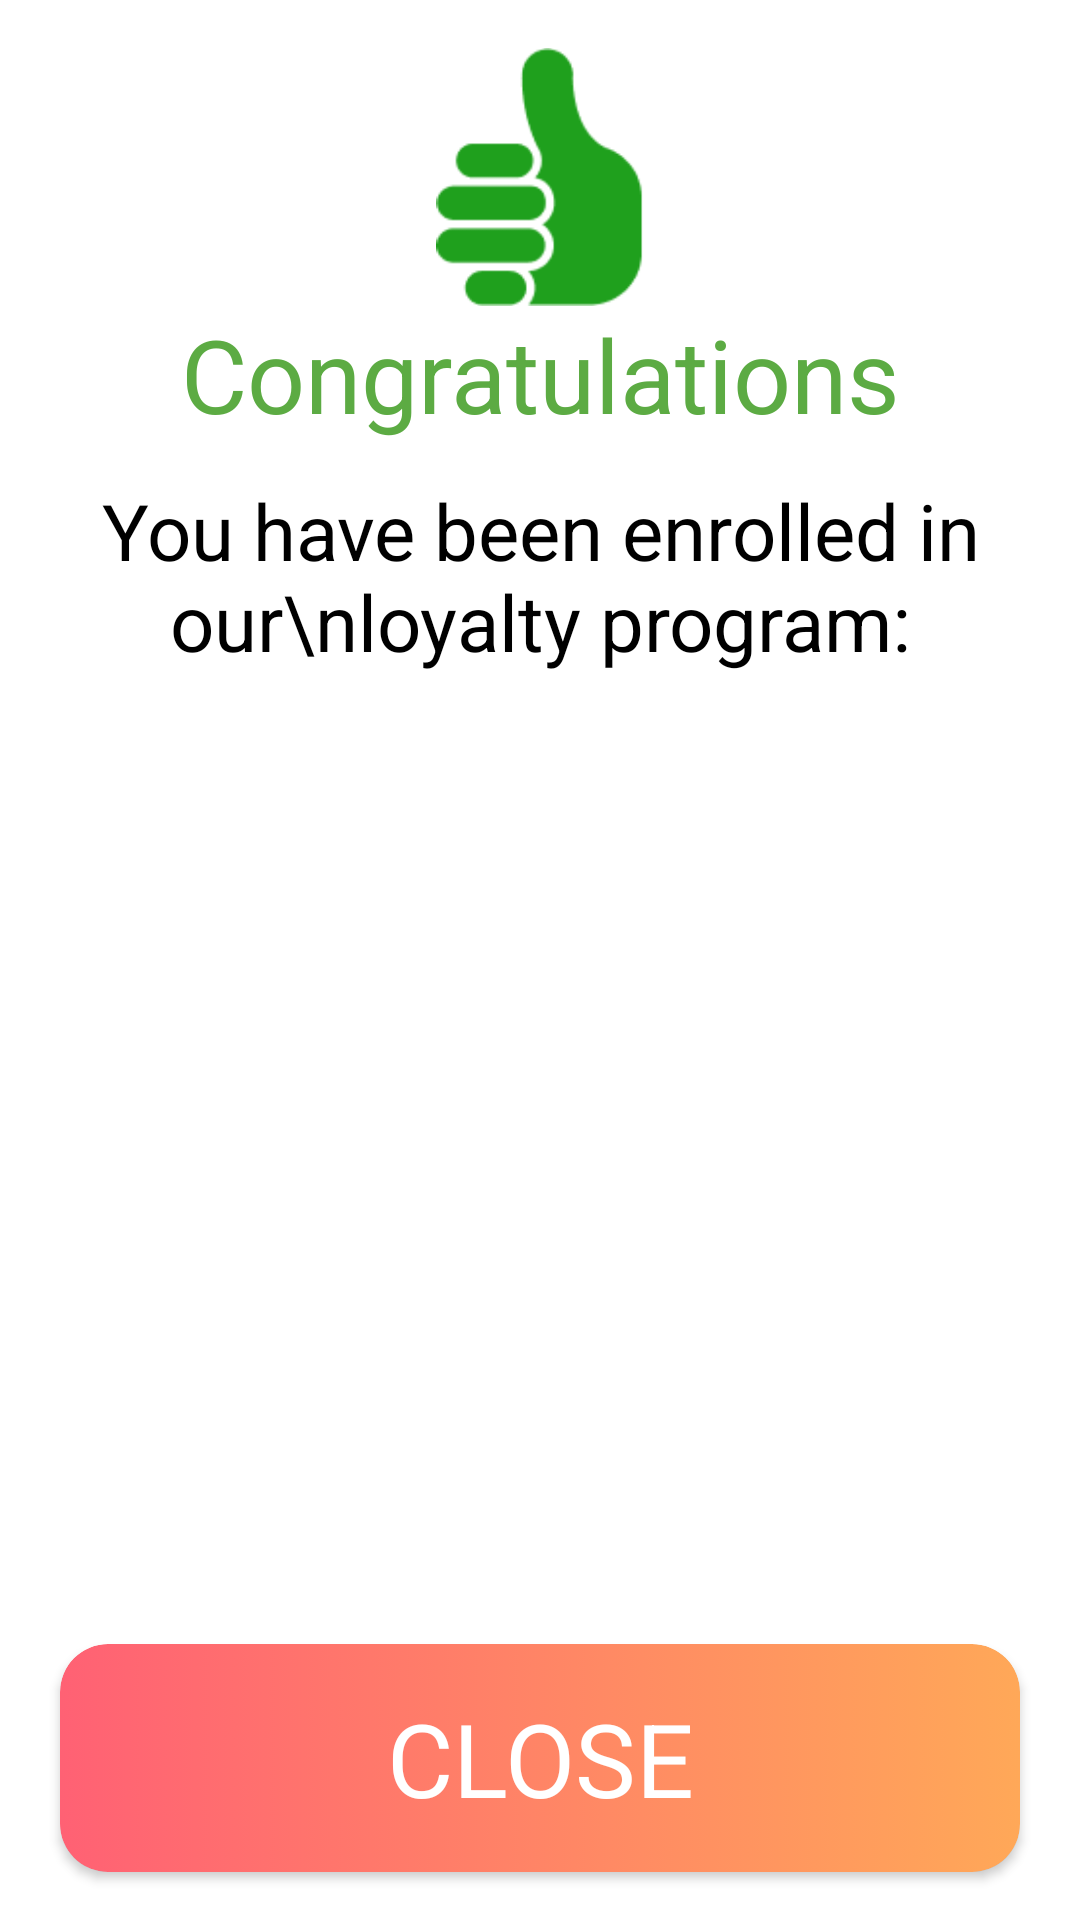

Where to tap for icons on this 1080w x 1920h app screen, as (x,y):
thumb: (539,177)
